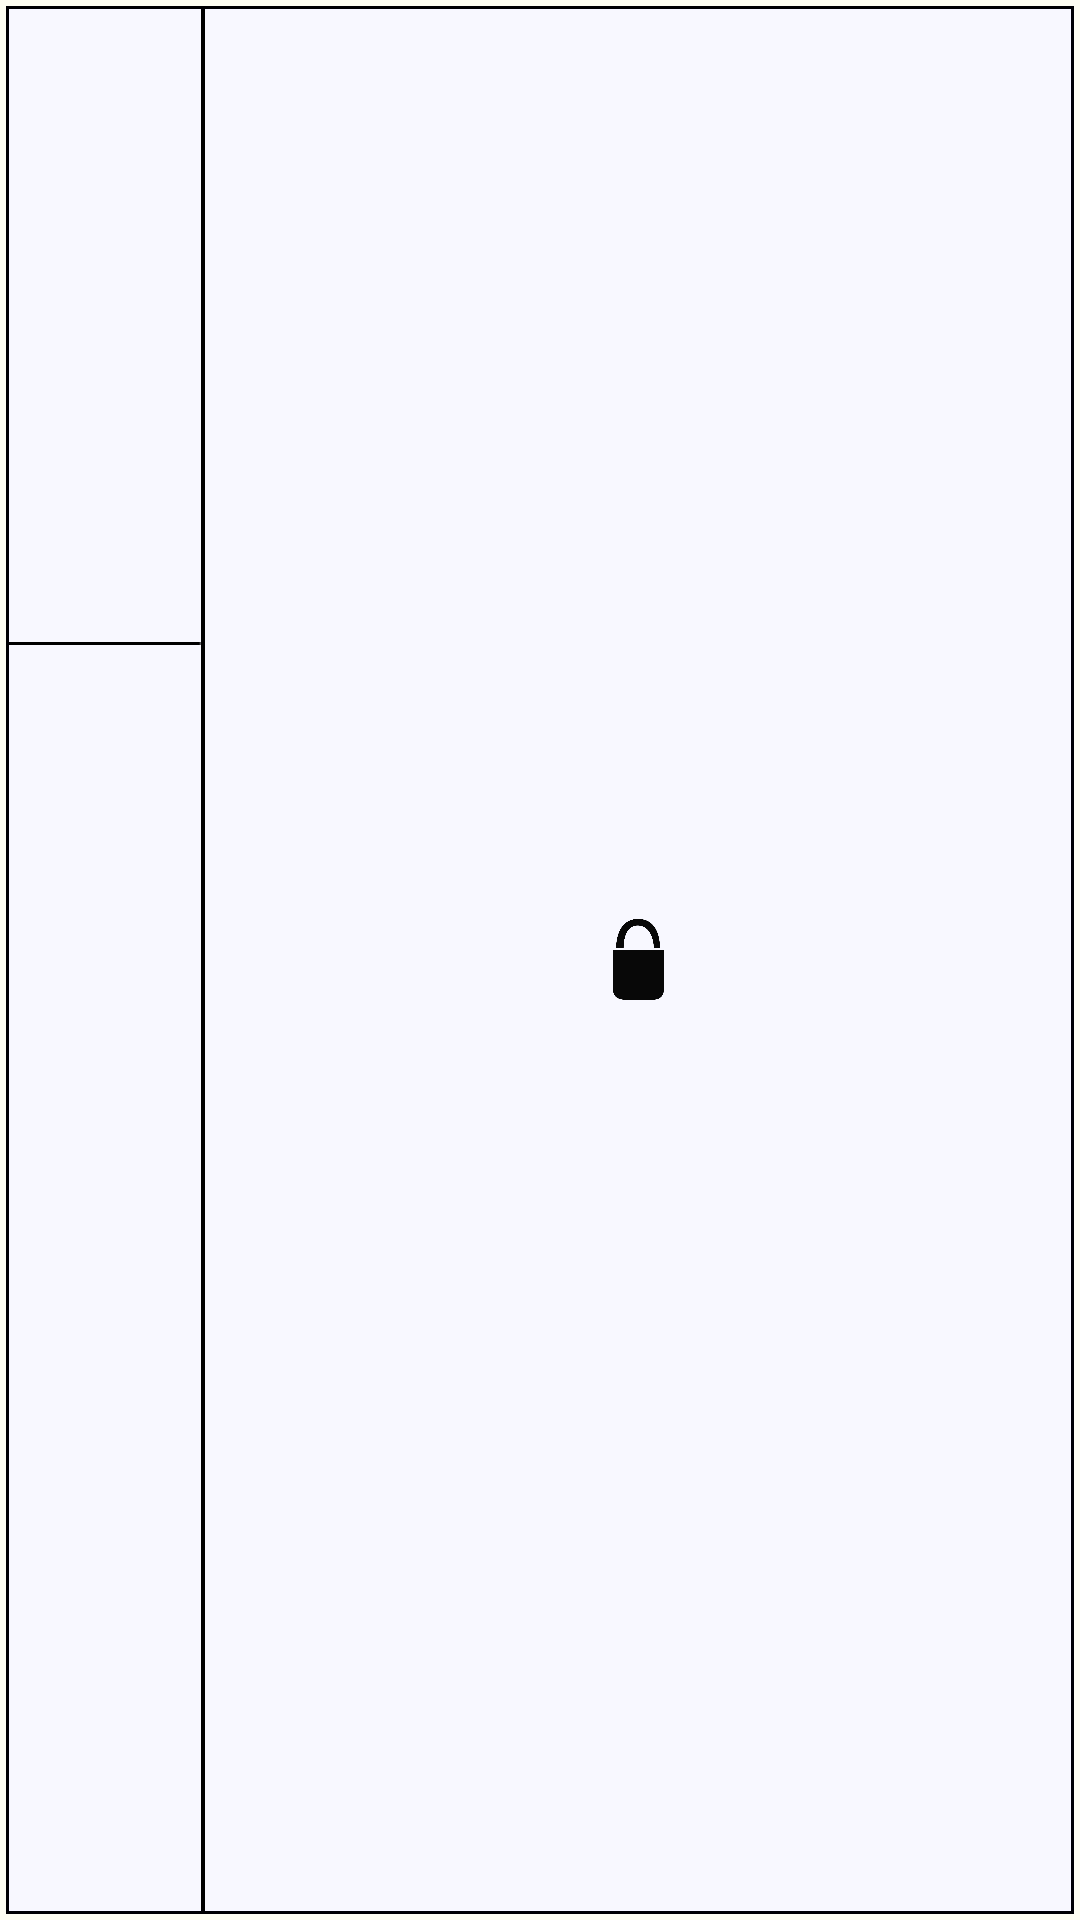

Where to tap for icons on this 1080 x 1920 app screen, as (x,y):
lock: (638,959)
